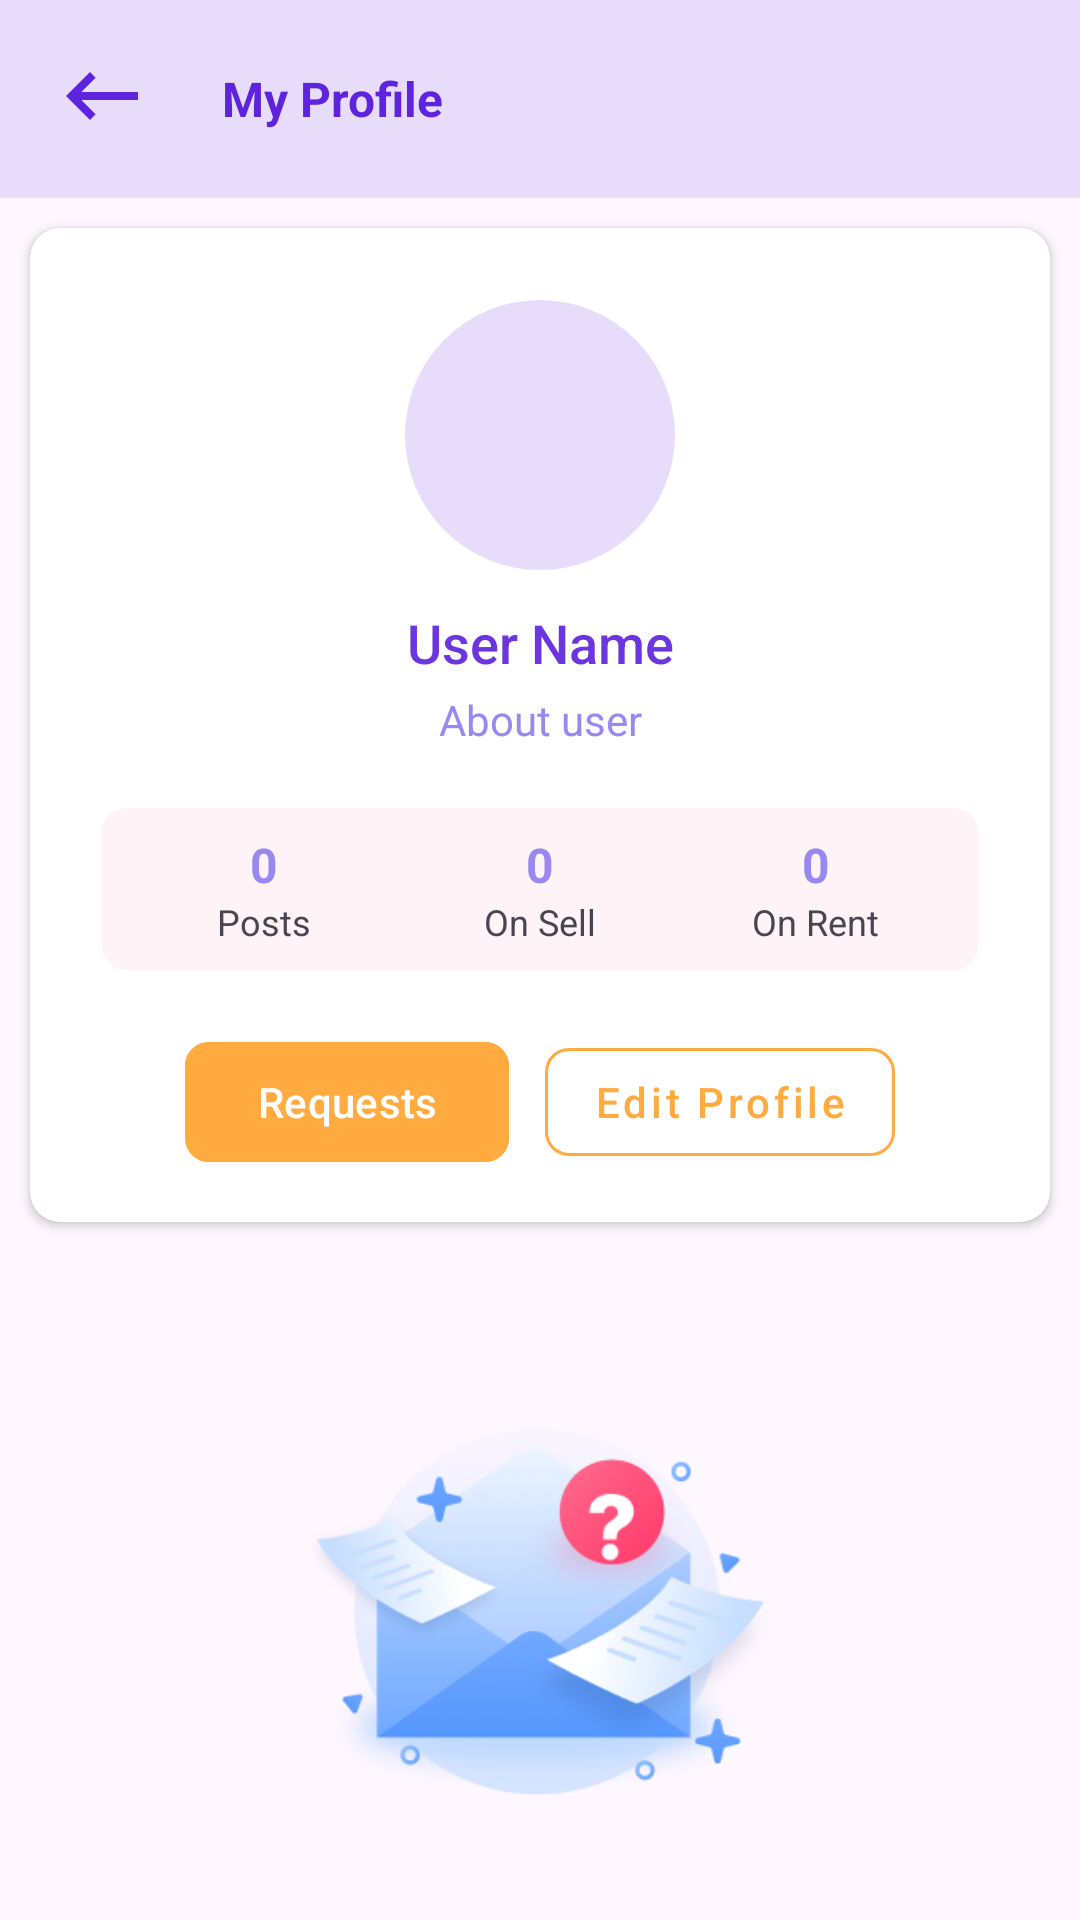

Named icons in this screenshot (1080 x 1920) and their centers, (x=x, y=y):
back: (x=102, y=96)
